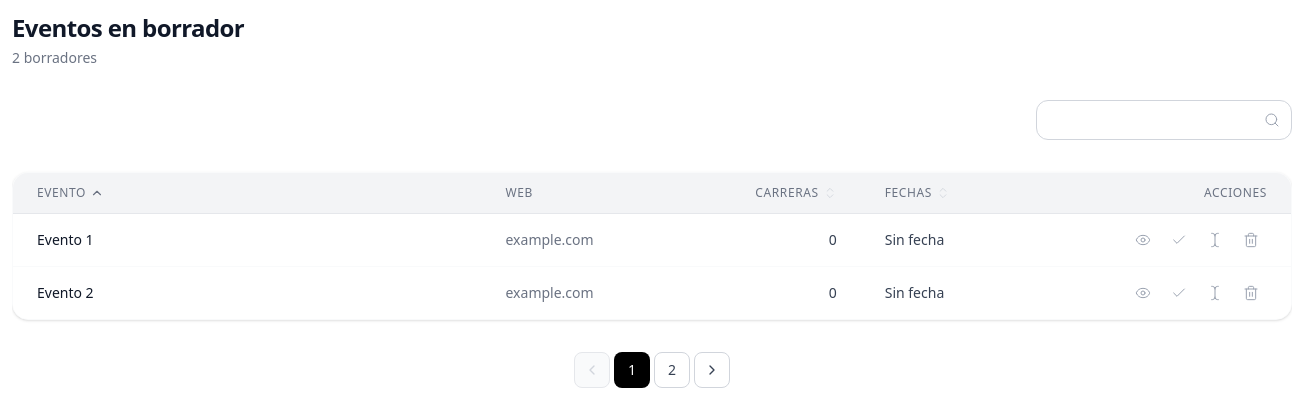
Test case: AdminEventImportDraftsContent › retains accepted rows, their order and pagination when all visible drafts are processed
The width and height of the screenshot is (1304, 405).
What coordinates should you click on to do the following:
click the button named "Aceptar" in the row of "Evento 1"
I would click on:
 (1179, 240)
Its box is [1163,224,1195,256].
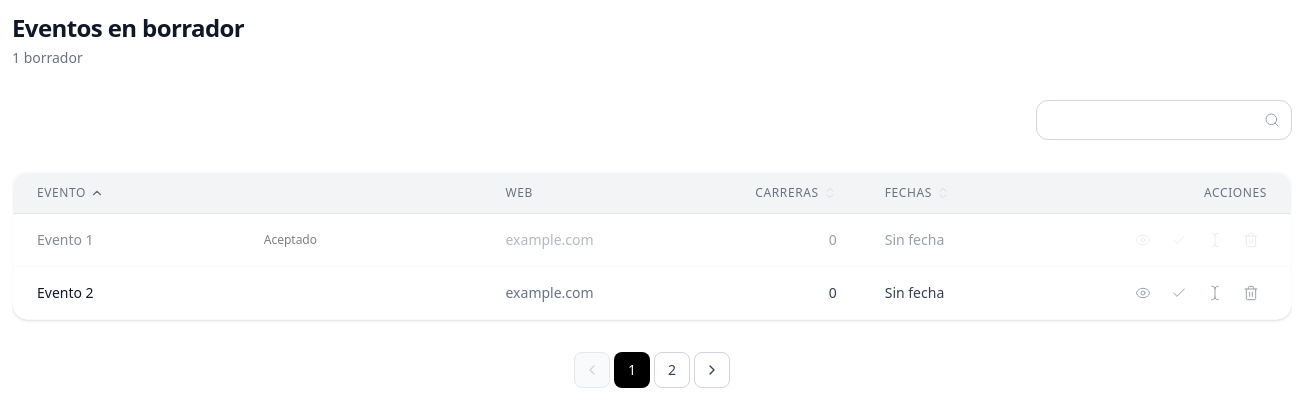
Now the text "1 borrador" is shown, box [12,48,83,67]
What coordinates should you click on to do the following:
click the button named "Aceptar" in the row of "Evento 2"
I would click on:
 (1179, 293)
Its box is [1163,277,1195,309].
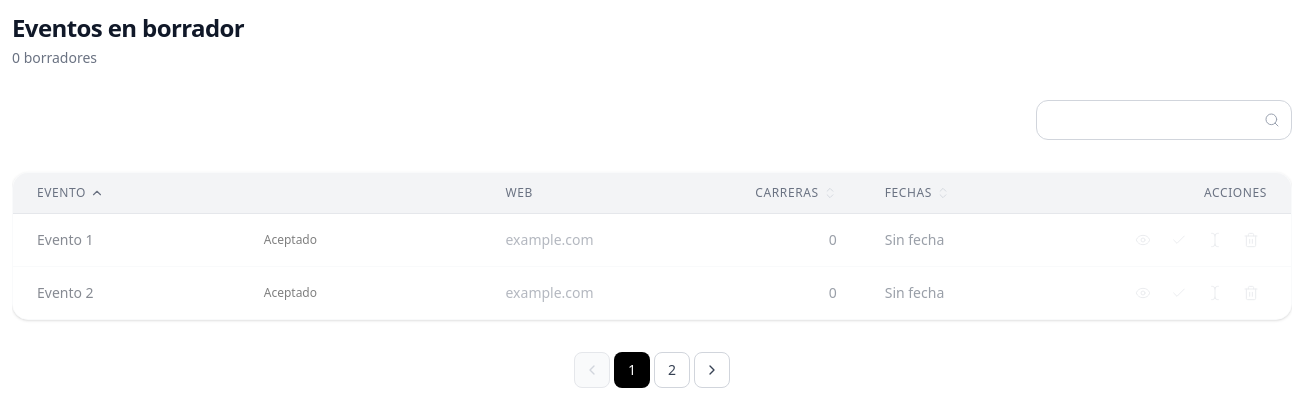
Now the text "0 borradores" is shown, box [12,48,97,67]
